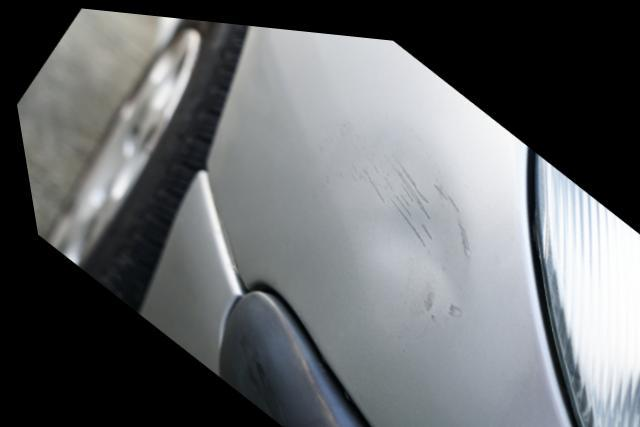dent: (334, 129, 460, 318)
